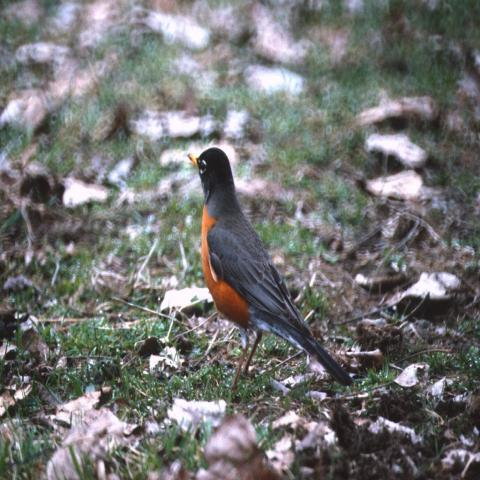bird: (184, 143, 355, 394)
